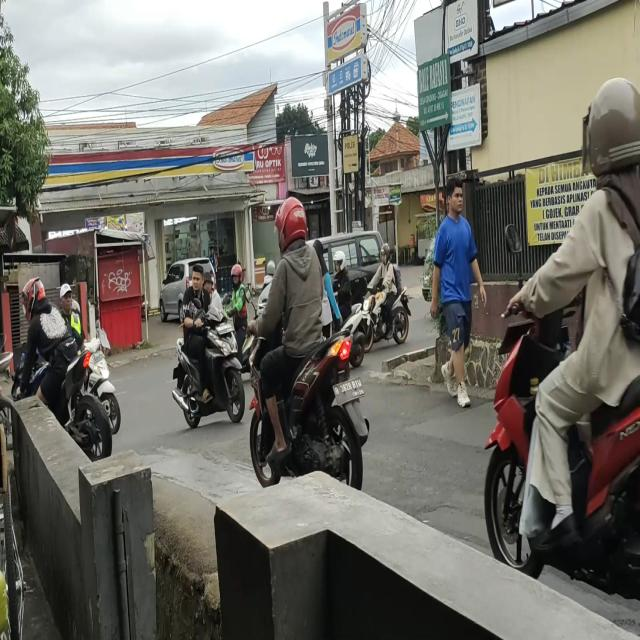helmet: (589, 74, 640, 167), (276, 196, 306, 245), (21, 283, 46, 309), (334, 251, 346, 270), (232, 266, 242, 285), (381, 245, 391, 262), (266, 260, 276, 277)
no-helmet: (192, 268, 204, 290)
